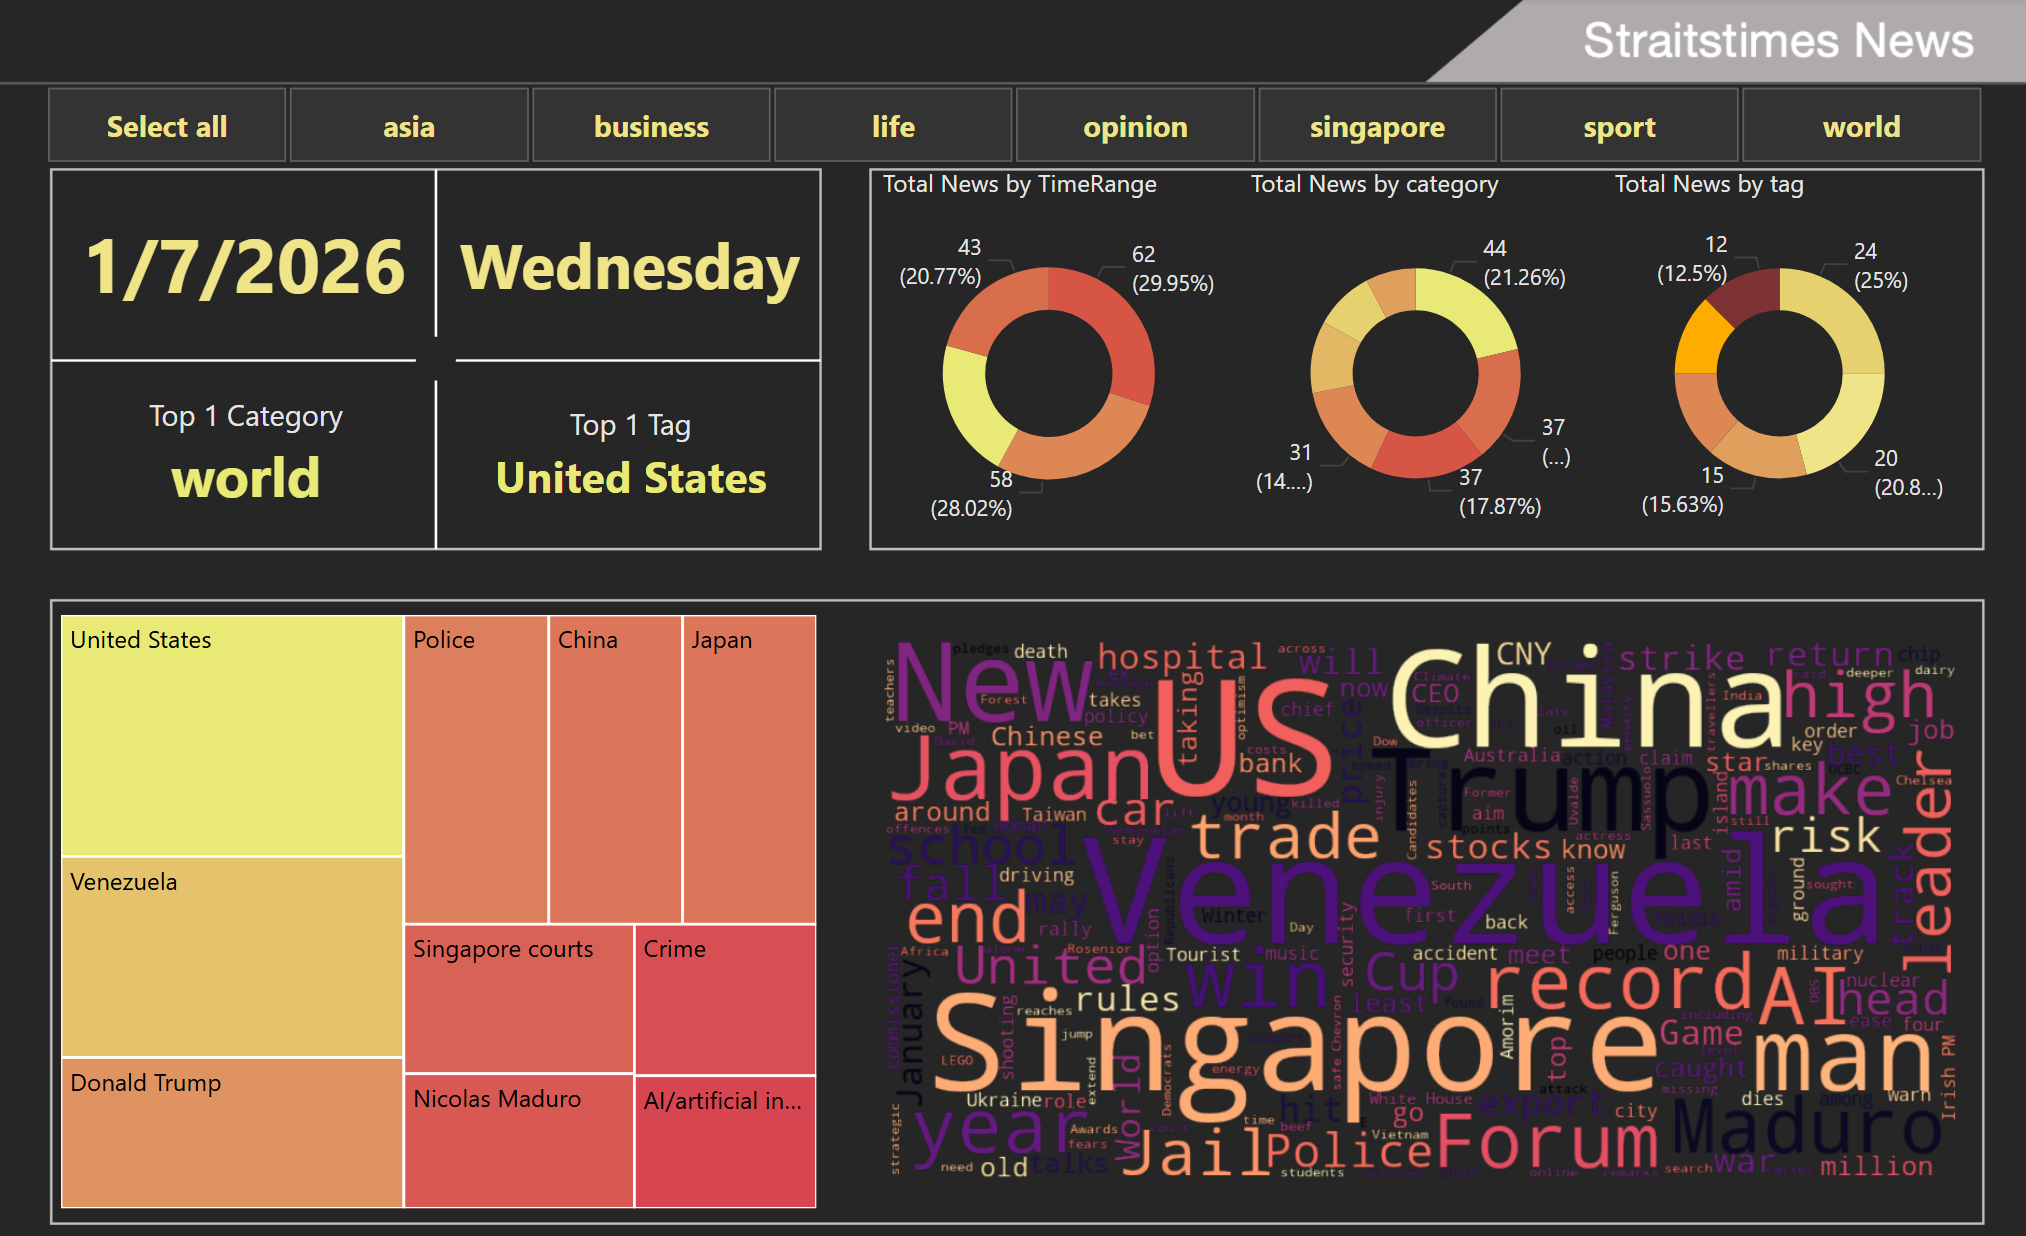

Layout of this report page (visuals, bound fields, positions):
{"tool":"powerbi","page":{"name":"Page 1","canvas":[1280,720],"ordinal":0},"visuals":[{"type":"treemap","fields":{"Group":["dim_tags_gl.tag"],"Values":["Measure_Table.Total News"]},"box":[186.7,336.3,427.1,337.6],"z":0},{"type":"slicer","fields":{"Values":["v_fact_news_gl.category"]},"box":[163.7,48.6,1107.4,44.8],"z":1000},{"type":"donutChart","fields":{"Category":["Time_Table.TimeRange"],"Y":["Measure_Table.Total News"]},"box":[640.6,93.3,193.1,211],"z":2000},{"type":"donutChart","fields":{"Y":["Measure_Table.Total News"],"Category":["v_fact_news_gl.category"]},"box":[844,93.3,191.8,211],"z":3000},{"type":"donutChart","fields":{"Y":["Measure_Table.Total News"],"Category":["dim_tags_gl.tag"]},"box":[1044.7,93.3,191.8,211],"z":4000},{"type":"pythonVisual","fields":{"Values":["v_fact_news_gl.title"]},"box":[640.5,335.7,605.2,337.9],"z":5000},{"type":"cardVisual","fields":{"Data":["v_fact_news_gl.category"]},"box":[187.3,199.8,212.3,104.6],"z":6000},{"type":"cardVisual","fields":{"Data":["dim_tags_gl.tag"]},"box":[400.2,134.3,213.5,235.3],"z":7000},{"type":"cardVisual","fields":{"Data":["v_fact_news_gl.publish_date"]},"box":[158.6,81.8,267.3,129.2],"z":8000},{"type":"cardVisual","fields":{"Data":["Date_Table.DayName"]},"box":[372.1,81.8,267.3,129.2],"z":9000}]}

Visuals, with their boxes on the page's 1280x720 design canvas (x1, y1, x2, y2). These are canvas units, not pixel positions in the 2026x1236 screenshot, which may show the page scaled, cropped or inside an application window:
treemap - dim_tags_gl.tag x Measure_Table.Total News: [187,336,614,674]
slicer - v_fact_news_gl.category: [164,49,1271,93]
donutChart - Time_Table.TimeRange x Measure_Table.Total News: [641,93,834,304]
donutChart - Measure_Table.Total News x v_fact_news_gl.category: [844,93,1036,304]
donutChart - Measure_Table.Total News x dim_tags_gl.tag: [1045,93,1236,304]
pythonVisual - v_fact_news_gl.title: [640,336,1246,674]
cardVisual - v_fact_news_gl.category: [187,200,400,304]
cardVisual - dim_tags_gl.tag: [400,134,614,370]
cardVisual - v_fact_news_gl.publish_date: [159,82,426,211]
cardVisual - Date_Table.DayName: [372,82,639,211]
